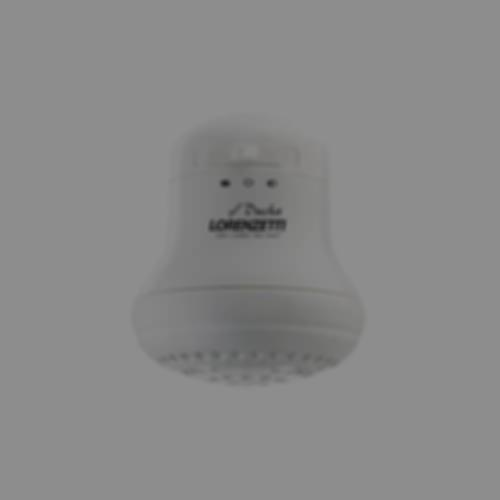Ducha: (131, 117, 361, 391)
